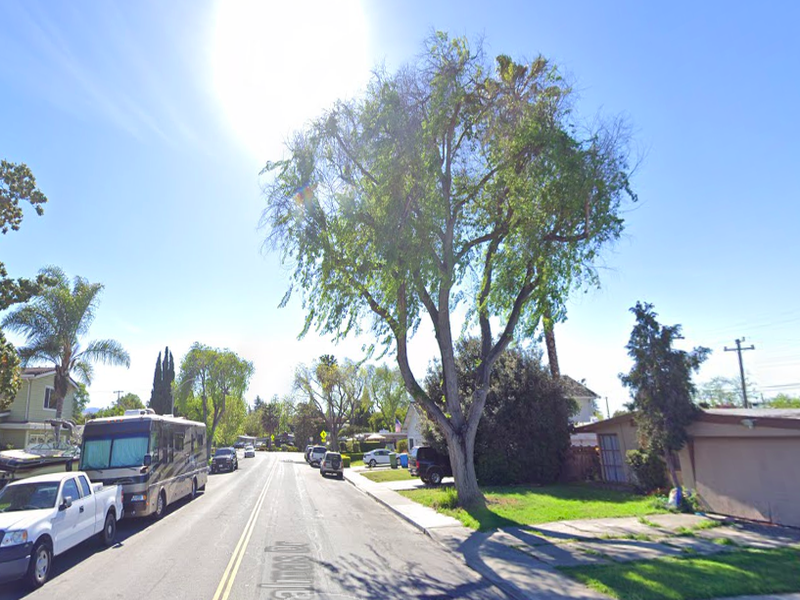tree: (254, 22, 651, 508)
